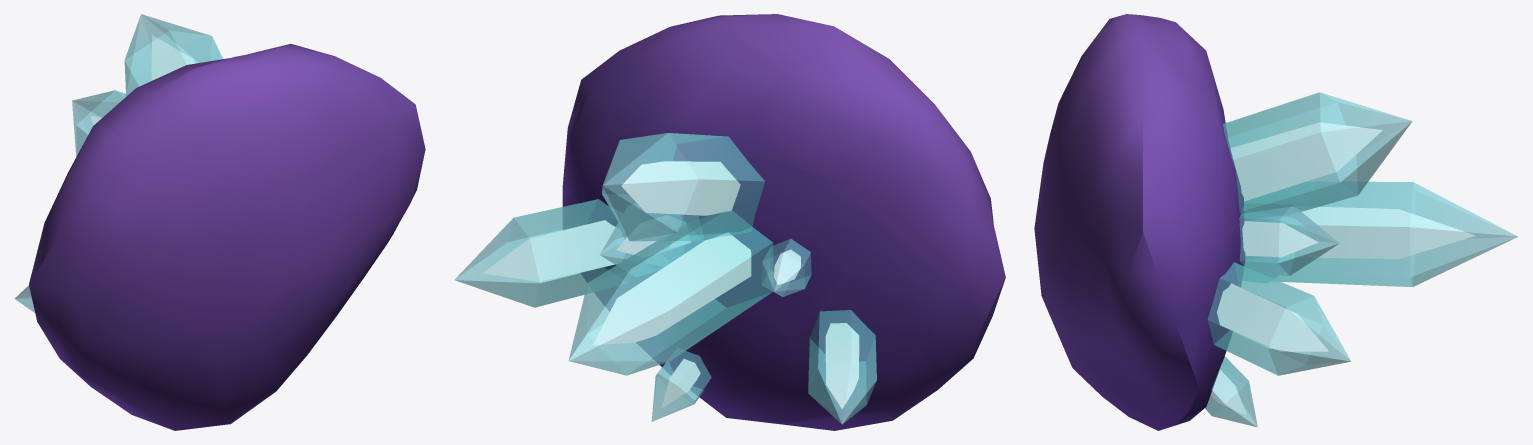
File: hollow_cave_crystal_wall_a.glb
The picture shows the model from 3 angles, left to right: view 1: azimuth 30°, elevation 25°; view 2: azimuth 150°, elevation 25°; view 3: azimuth 270°, elevation 25°; orthographic projection. The views are drawn at different scales.
Parts seen in each view (by area): view 1: hollow_cave_crystal_wall_a; view 2: hollow_cave_crystal_wall_a; view 3: hollow_cave_crystal_wall_a.
Boxes of the visible parts, <box> form: hollow_cave_crystal_wall_a: <box>14,14,425,430</box>; hollow_cave_crystal_wall_a: <box>454,14,1005,430</box>; hollow_cave_crystal_wall_a: <box>1034,14,1518,430</box>.
Bounding box in the file's own units: 2.1 × 1.81 × 2.06.
